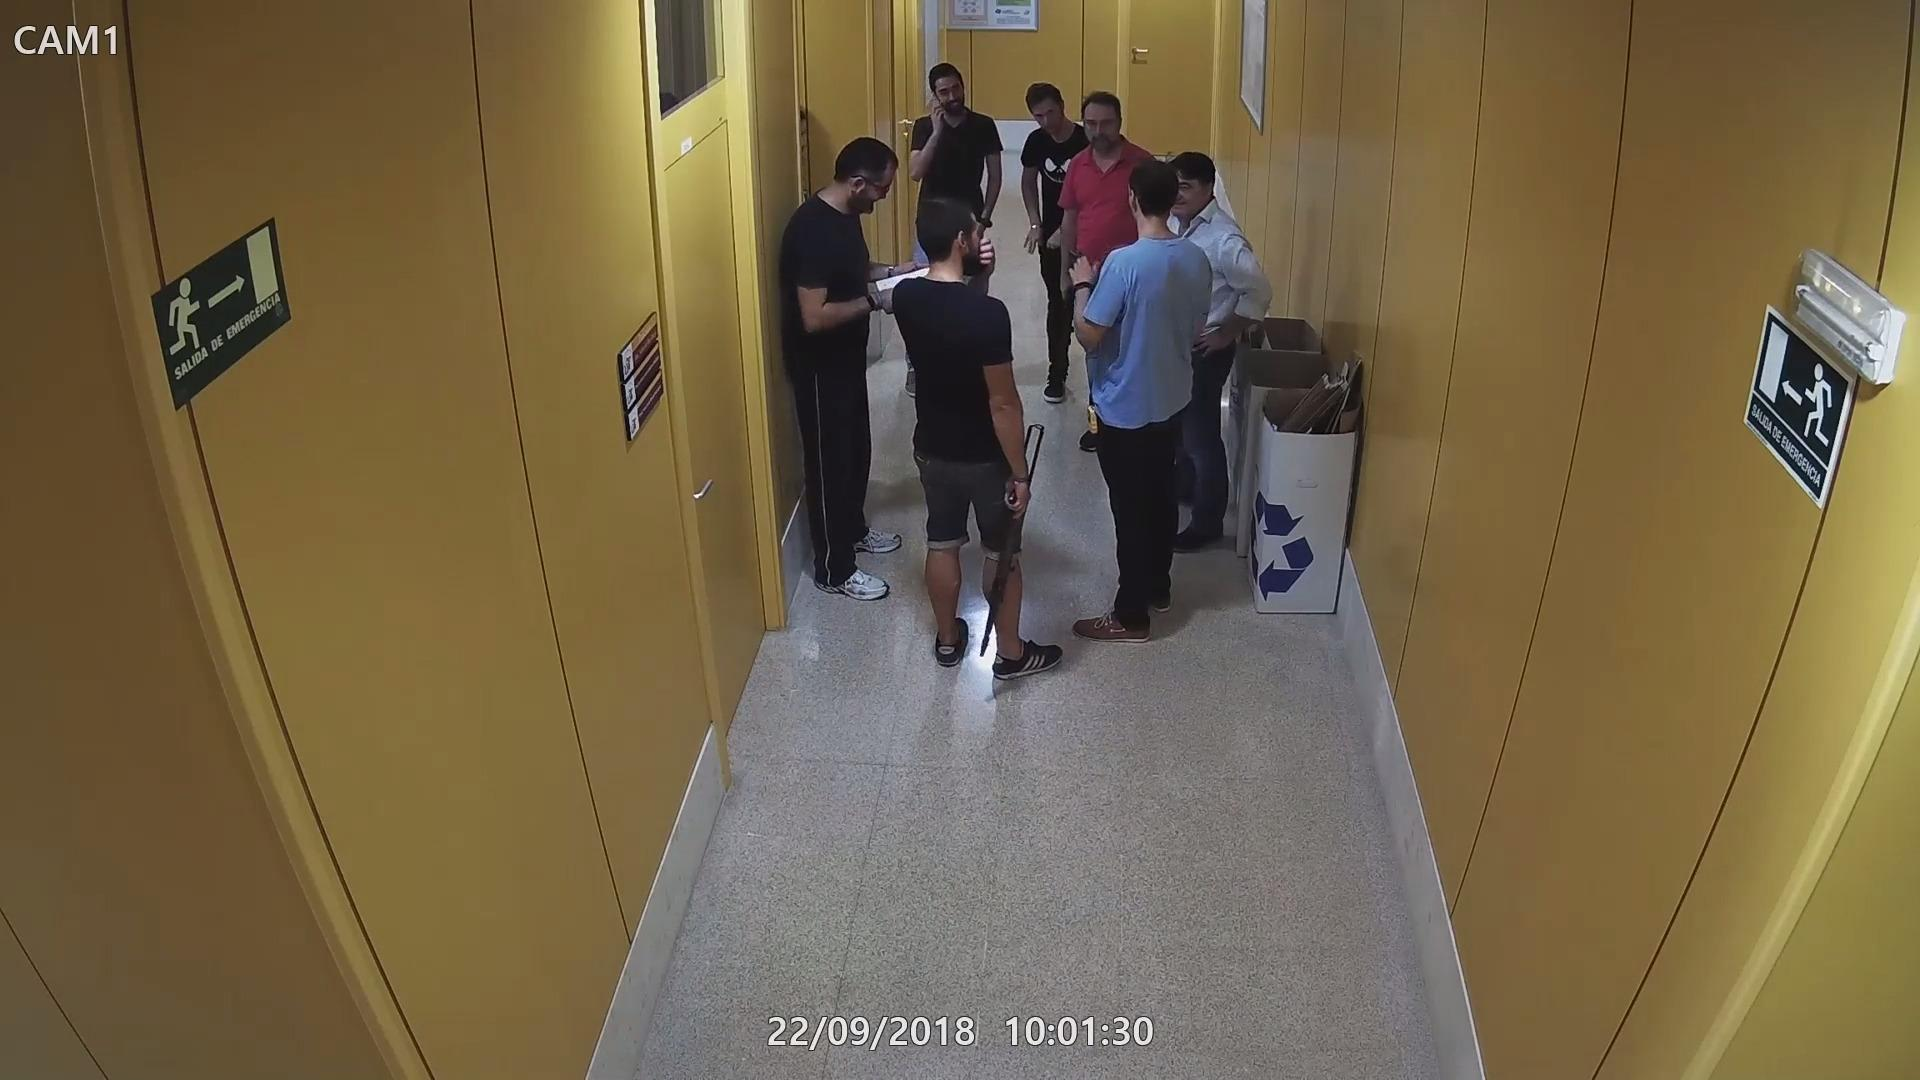Handgun: (1062, 248, 1088, 286)
